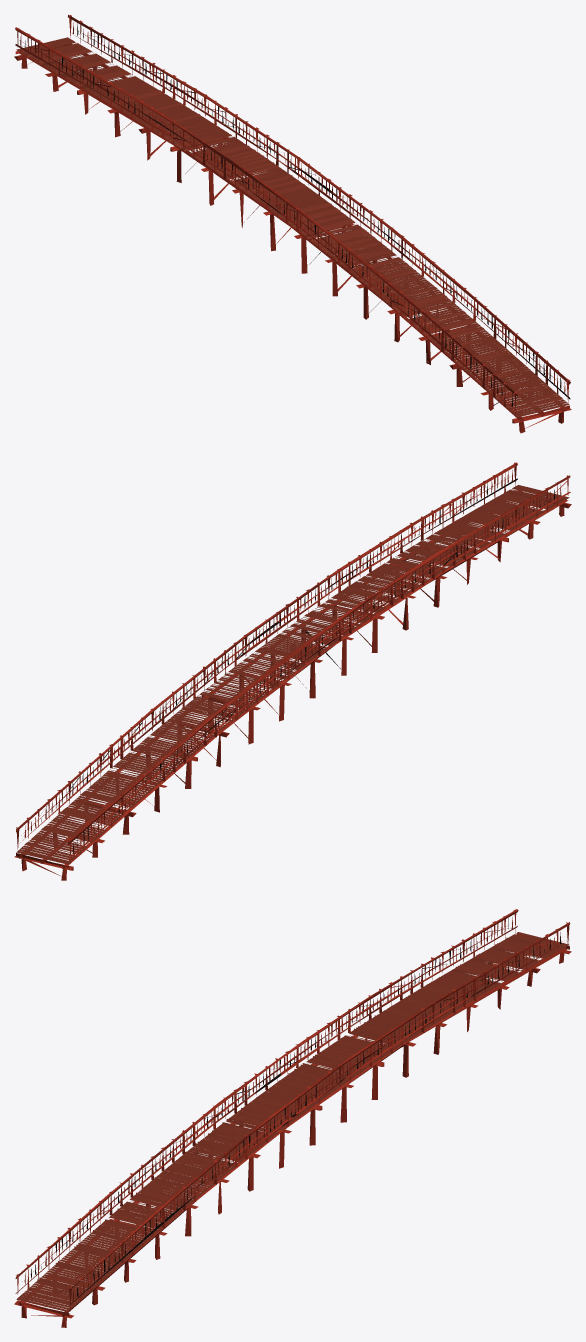
The model's file is cau_the_huc_lod2.glb.
The picture shows the model from 3 angles, top to bottom: view 1: azimuth 30°, elevation 25°; view 2: azimuth 150°, elevation 25°; view 3: azimuth 330°, elevation 25°; orthographic projection.
Visible parts, largest first — view 1: cau_the_huc_lod2; view 2: cau_the_huc_lod2; view 3: cau_the_huc_lod2.
Part boxes in pixels (box(x1,y1,x2,y2)): cau_the_huc_lod2: box(14, 14, 571, 433); cau_the_huc_lod2: box(14, 462, 571, 880); cau_the_huc_lod2: box(14, 909, 571, 1327).
Size of the model in its own units: 3.03 by 3.44 by 46.05.
Materials: 2 (2 with a texture image).
